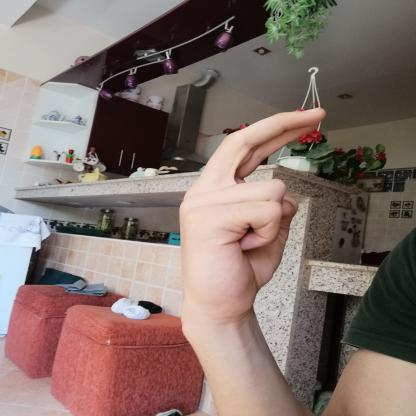ZAY: (169, 98, 341, 330)
